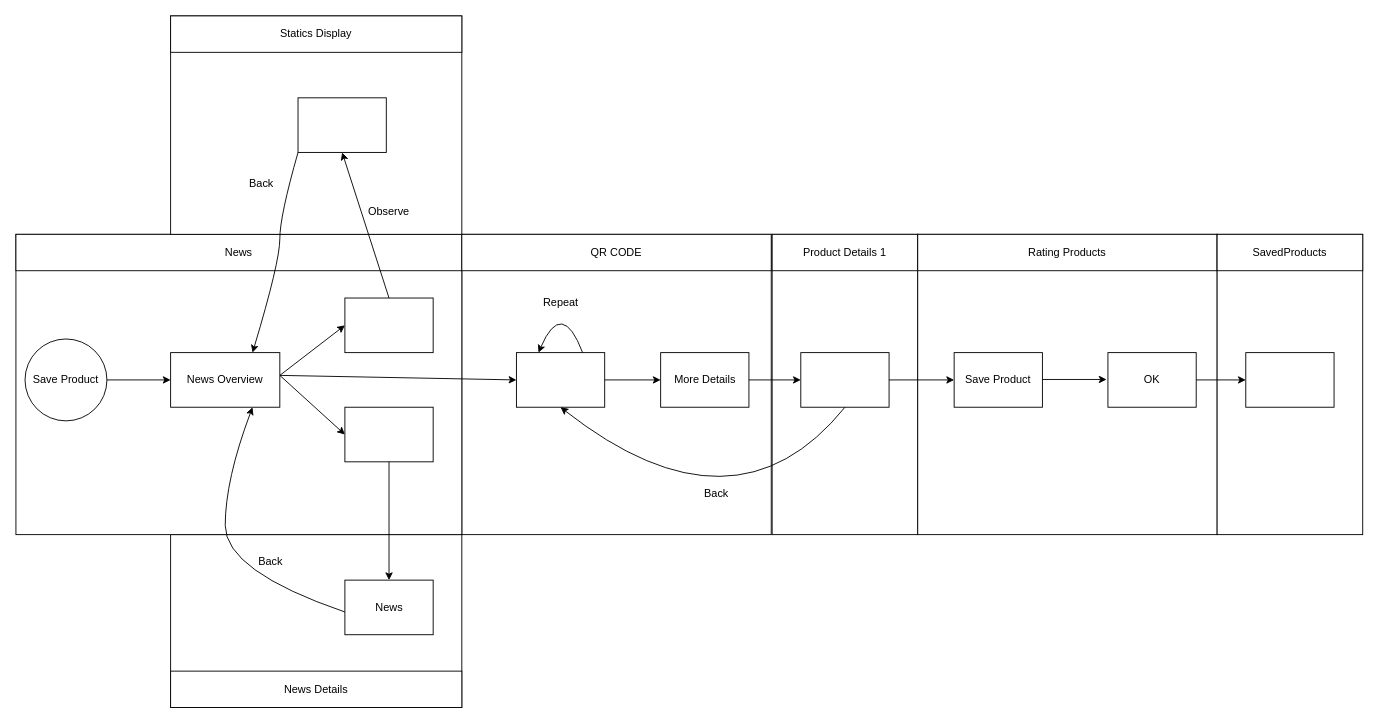
Some shapes in this 1379 by 723 pixel diagram are drawn without their labels. The box of each missing label's shape, as (x1, y1, x2, y2) in pixels:
Feedback: (800, 352, 889, 407)
List of Saved Products: (1245, 352, 1334, 407)
Read Code: (516, 352, 605, 407)
Read More: (344, 406, 433, 462)
Statics 1& 2: (297, 97, 386, 152)
Stattics: (344, 297, 433, 353)
